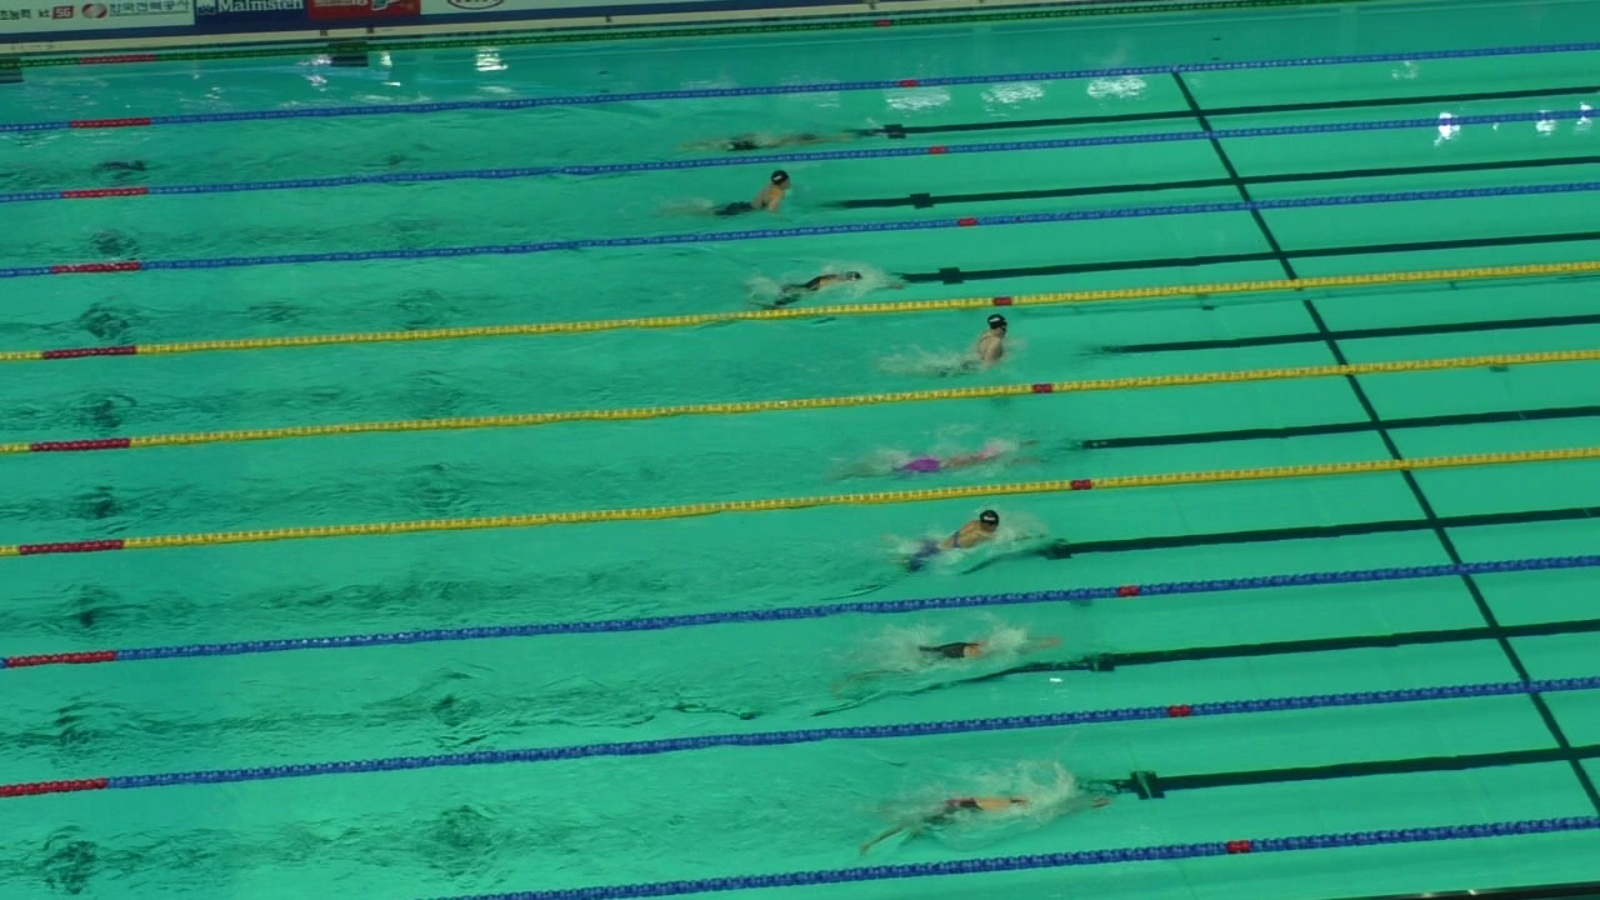swimmerwdd: (862, 780, 1101, 862), (866, 508, 1021, 573), (902, 311, 1015, 388), (866, 432, 1037, 481), (881, 627, 1054, 673), (662, 169, 805, 223), (745, 262, 874, 315), (678, 127, 855, 156)
